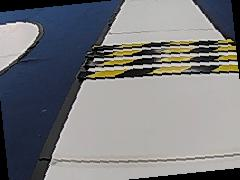bump: (84, 36, 240, 83)
